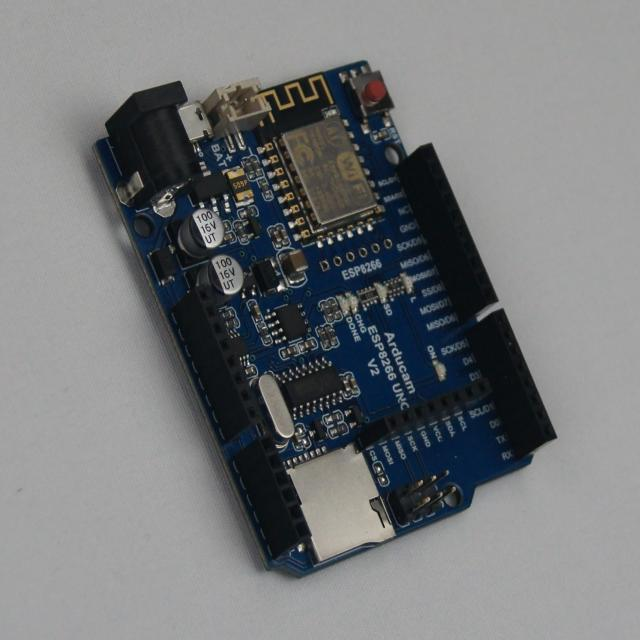Arduino Uno Camera Shield: (97, 62, 557, 576)
